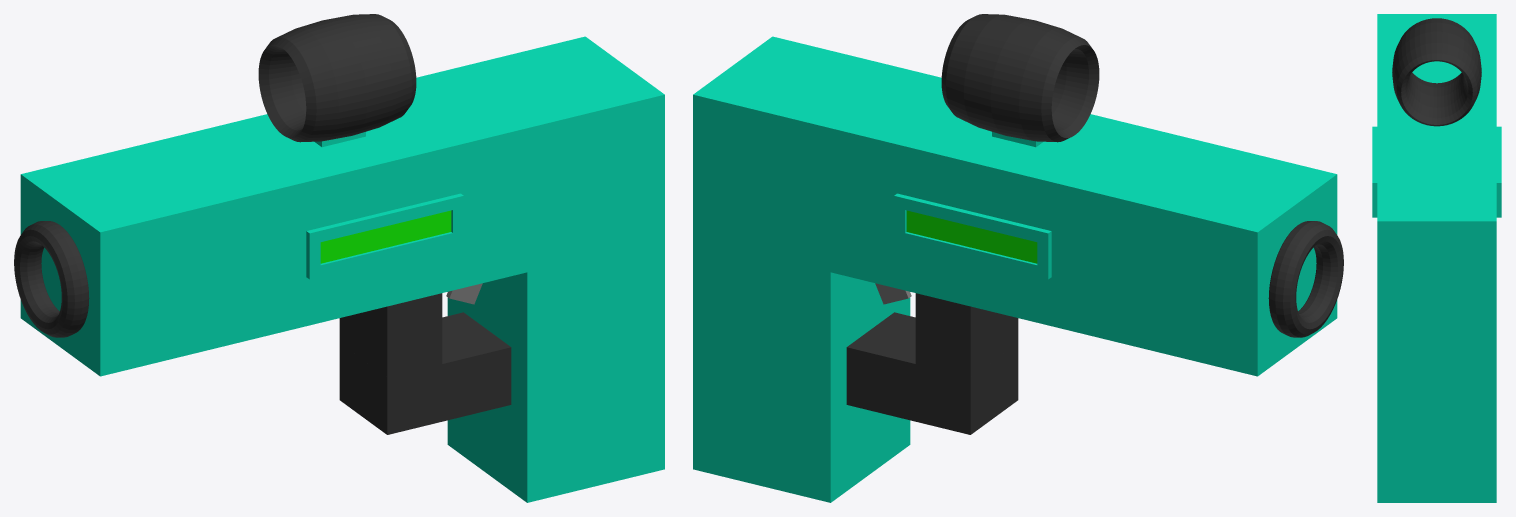
Rendered from BallGunV1.glb.
3 renders of one model, left to right at view 1: azimuth 30°, elevation 25°; view 2: azimuth 150°, elevation 25°; view 3: azimuth 270°, elevation 25°, orthographic. The views are drawn at different scales.
Visible parts, largest first — view 1: Cube.012, Cube.003, Mire, ForwardPart, CadrantLife, LifeTime; view 2: Cube.012, Cube.003, Mire, ForwardPart, CadrantLife, LifeTime; view 3: Cube.012, Mire, CadrantLife.
Part boxes in pixels (<box>): Cube.012: <box>20,36,664,502</box>; Cube.003: <box>339,293,511,434</box>; Mire: <box>258,14,416,142</box>; ForwardPart: <box>14,221,89,337</box>; CadrantLife: <box>306,193,463,279</box>; LifeTime: <box>320,210,451,263</box>; Cube.012: <box>693,36,1337,502</box>; Cube.003: <box>846,293,1018,434</box>; Mire: <box>941,14,1099,142</box>; ForwardPart: <box>1268,221,1343,337</box>; CadrantLife: <box>894,193,1051,279</box>; LifeTime: <box>906,210,1037,263</box>; Cube.012: <box>1377,14,1496,502</box>; Mire: <box>1392,18,1481,126</box>; CadrantLife: <box>1372,126,1501,217</box>.
Size of the model in its own units: 2.13 by 1.69 by 0.54.
